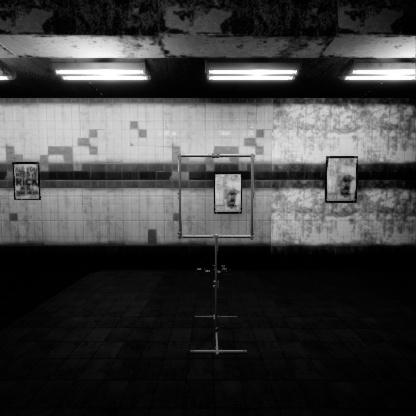gate: (178, 176, 261, 262)
